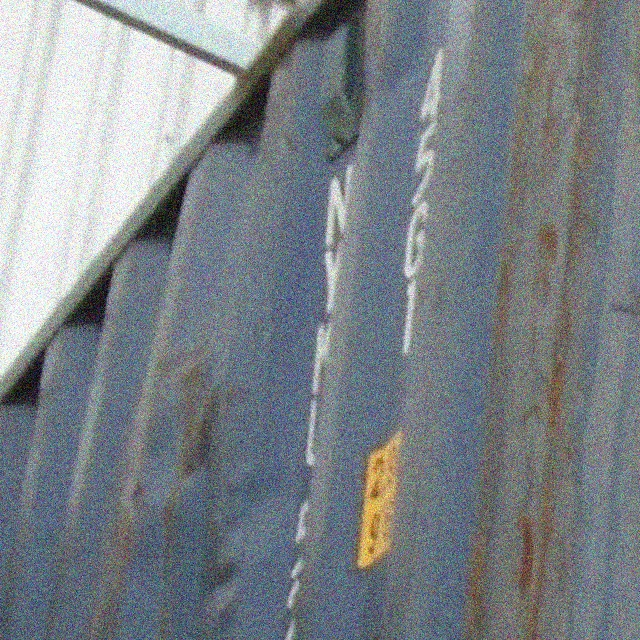Dent: (111, 338, 292, 640)
Rusty: (467, 15, 591, 636)
